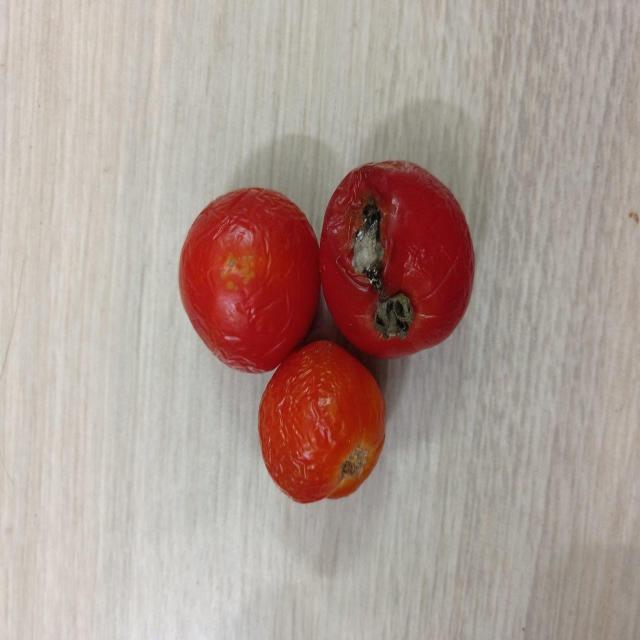Rotten: (318, 160, 476, 362)
overripe: (179, 184, 322, 376), (260, 339, 387, 505)
